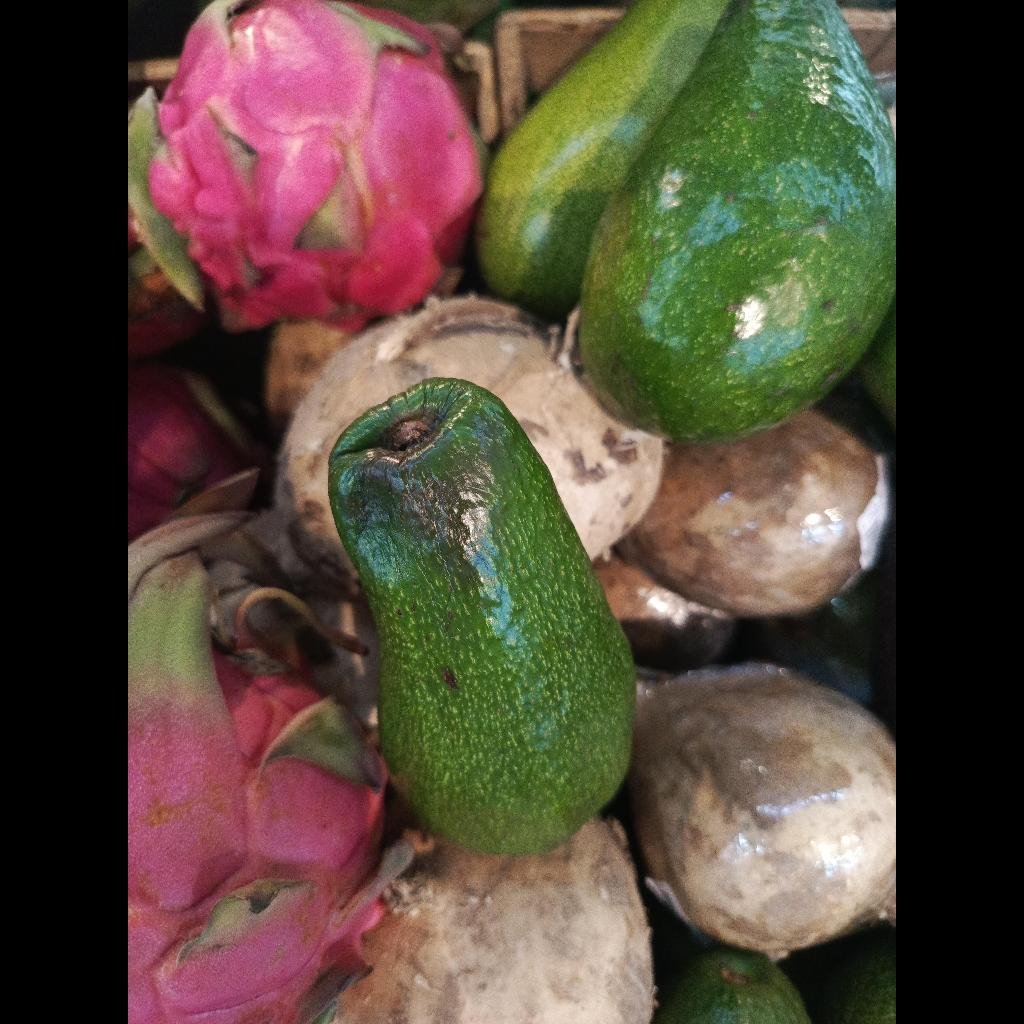pudricion_peduncular: (329, 378, 634, 854)
